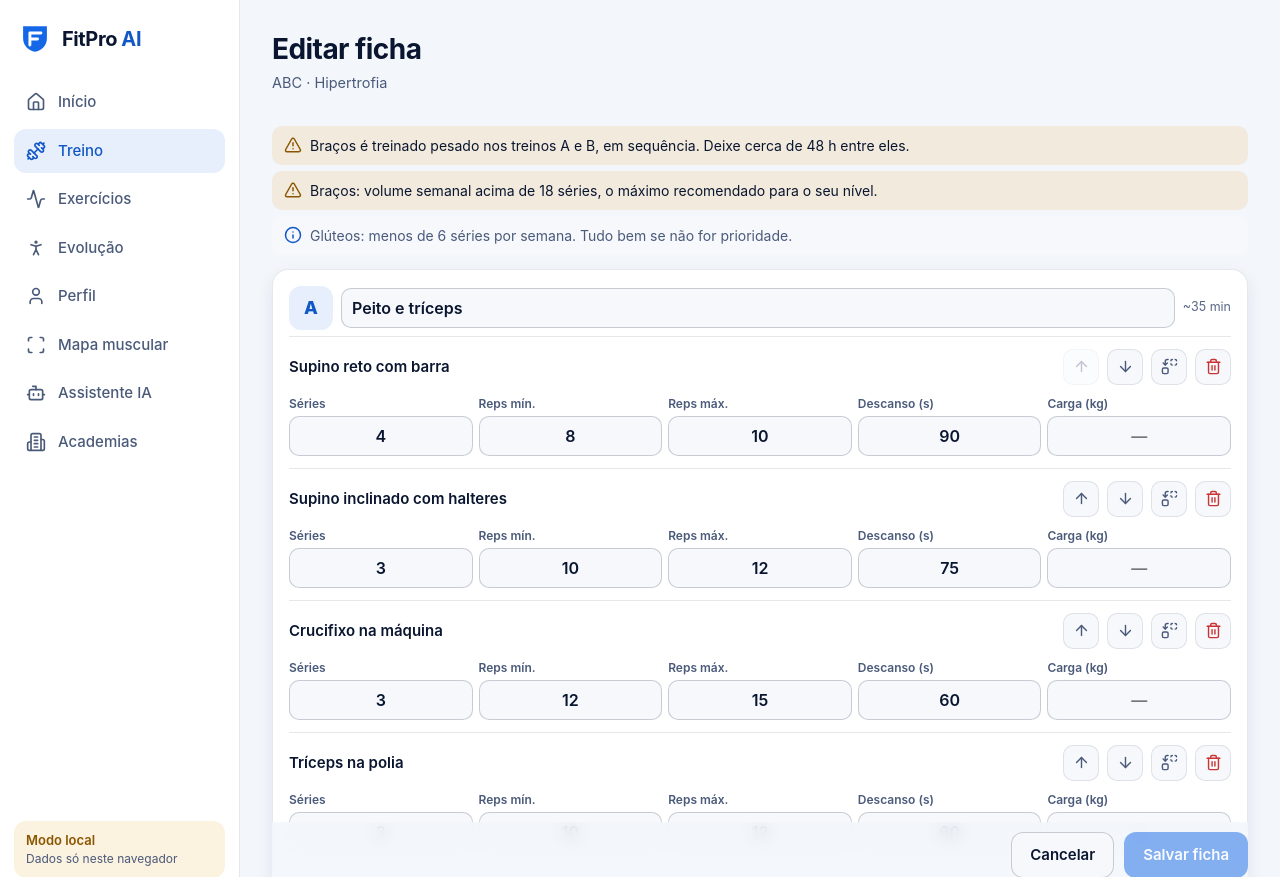
Test: editar ficha (modo local) › remover todos os exercícios de um treino gera erro na conferência
Click the button named "Remover ": coordinates (1213, 367) [1195,349,1231,385]
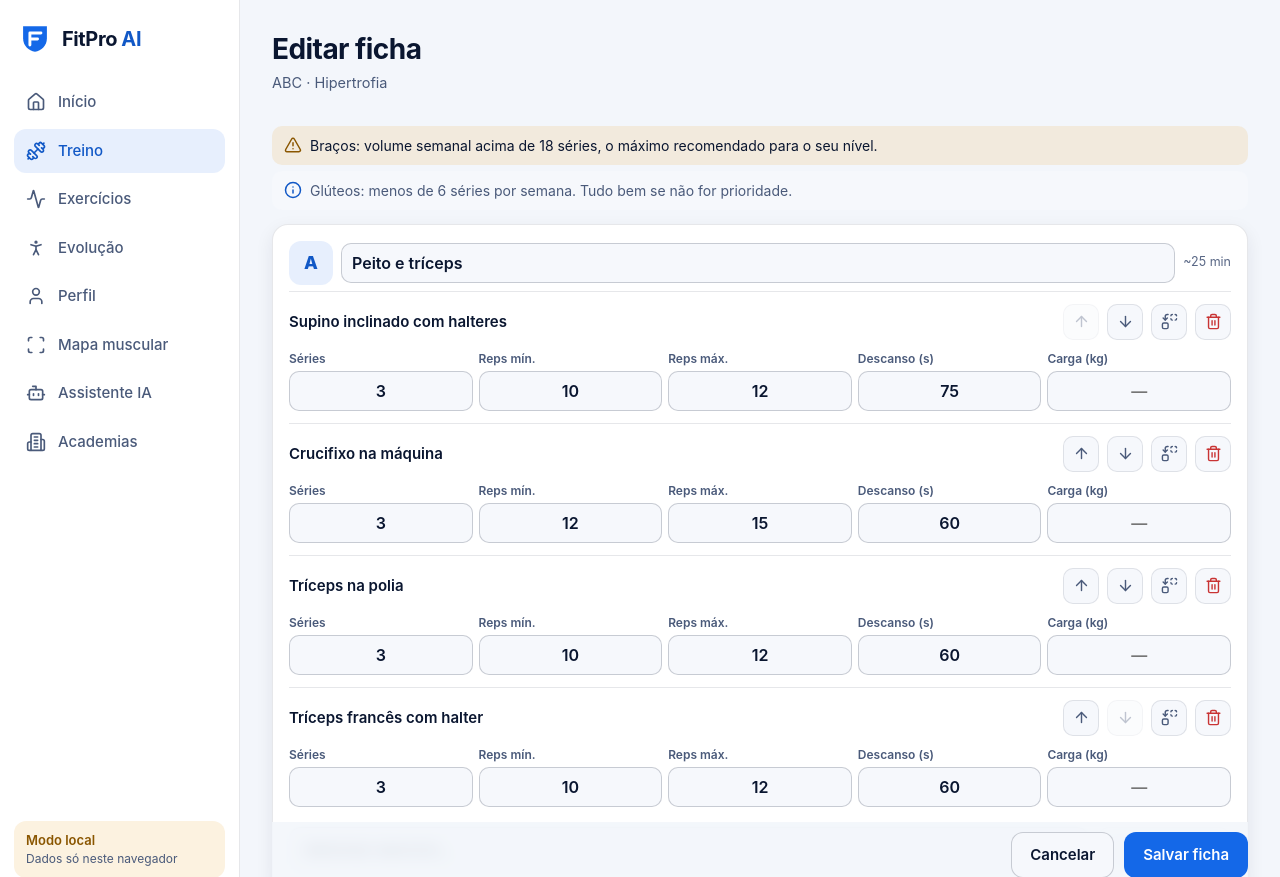
Click the button named "Remover ": coordinates (1213, 322) [1195,304,1231,340]
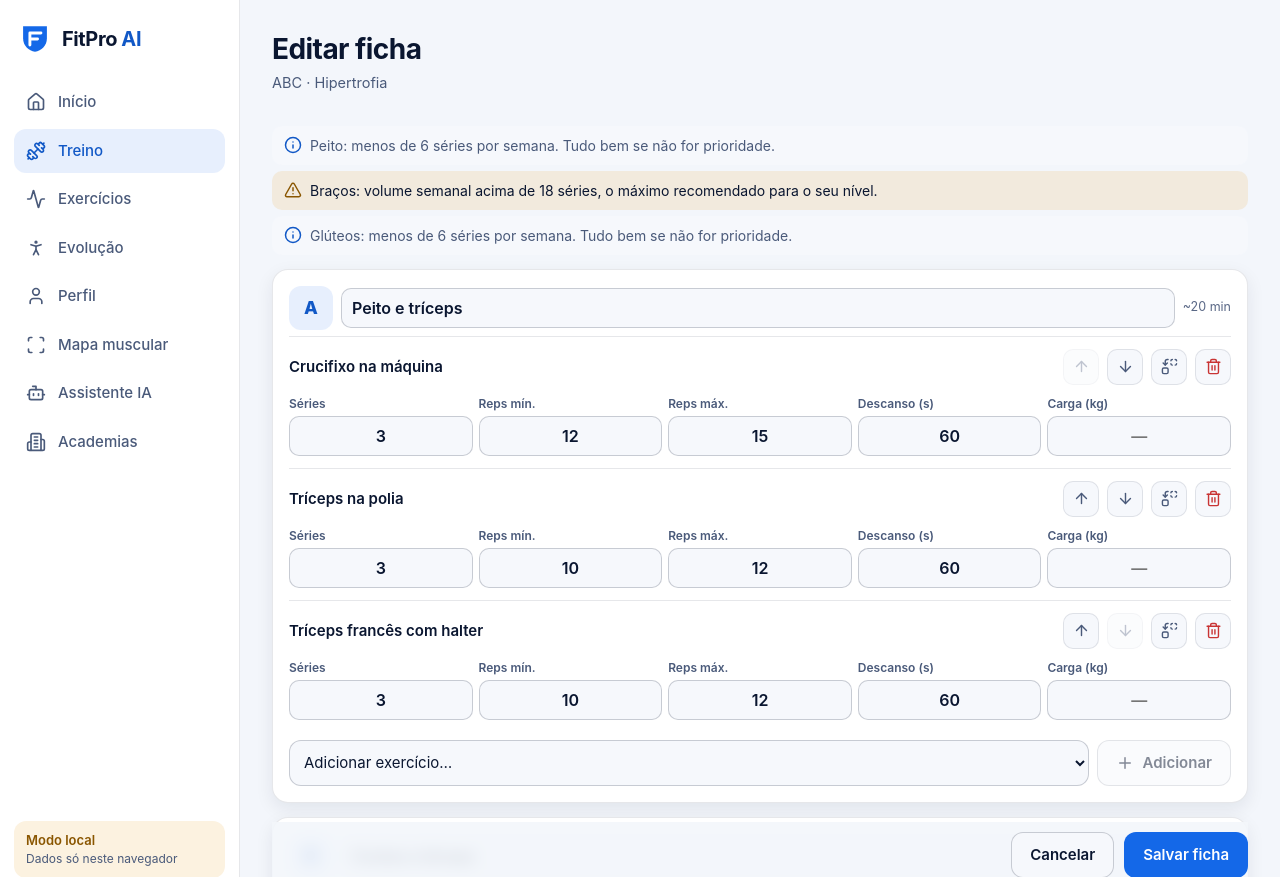
Click the button named "Remover ": coordinates (1213, 367) [1195,349,1231,385]
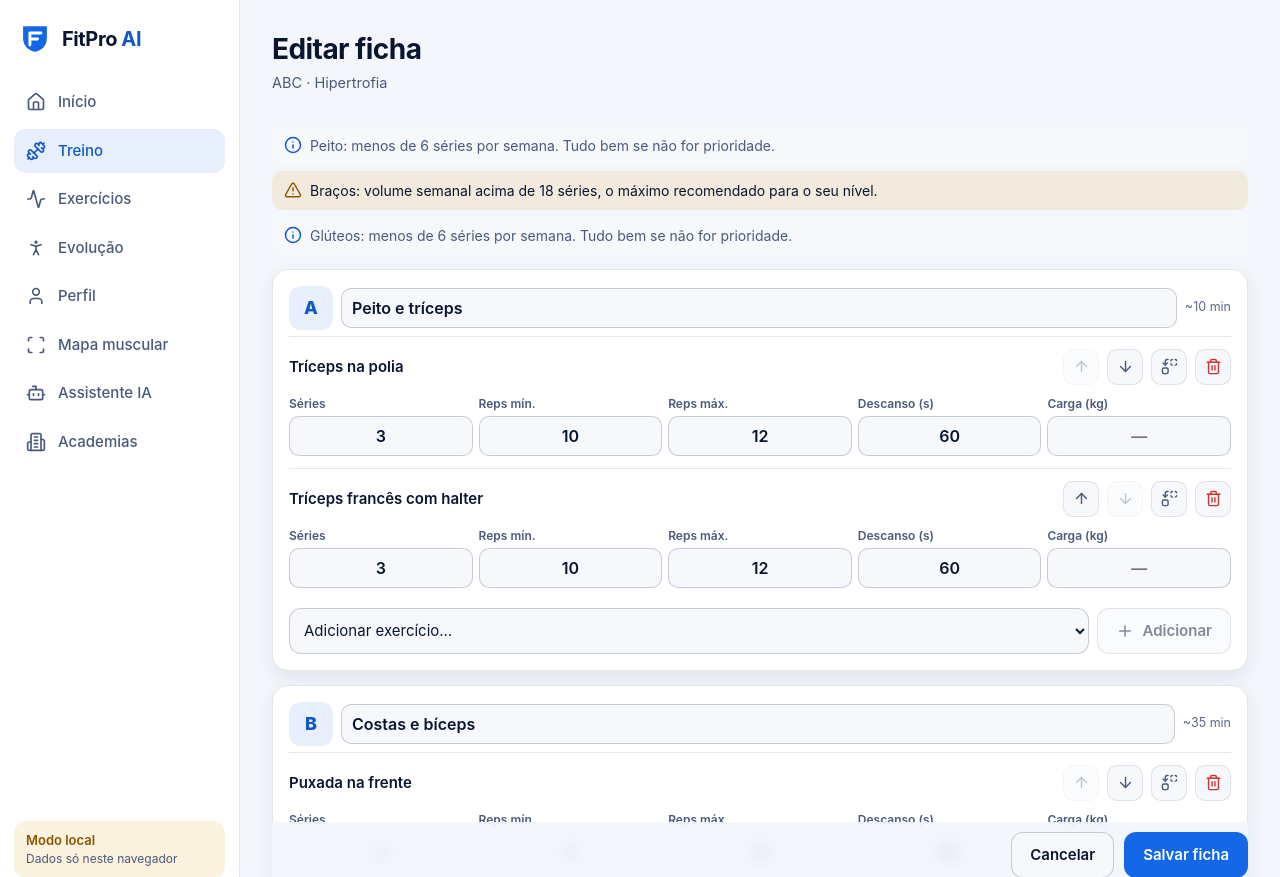
Click the button named "Remover ": coordinates (1213, 367) [1195,349,1231,385]
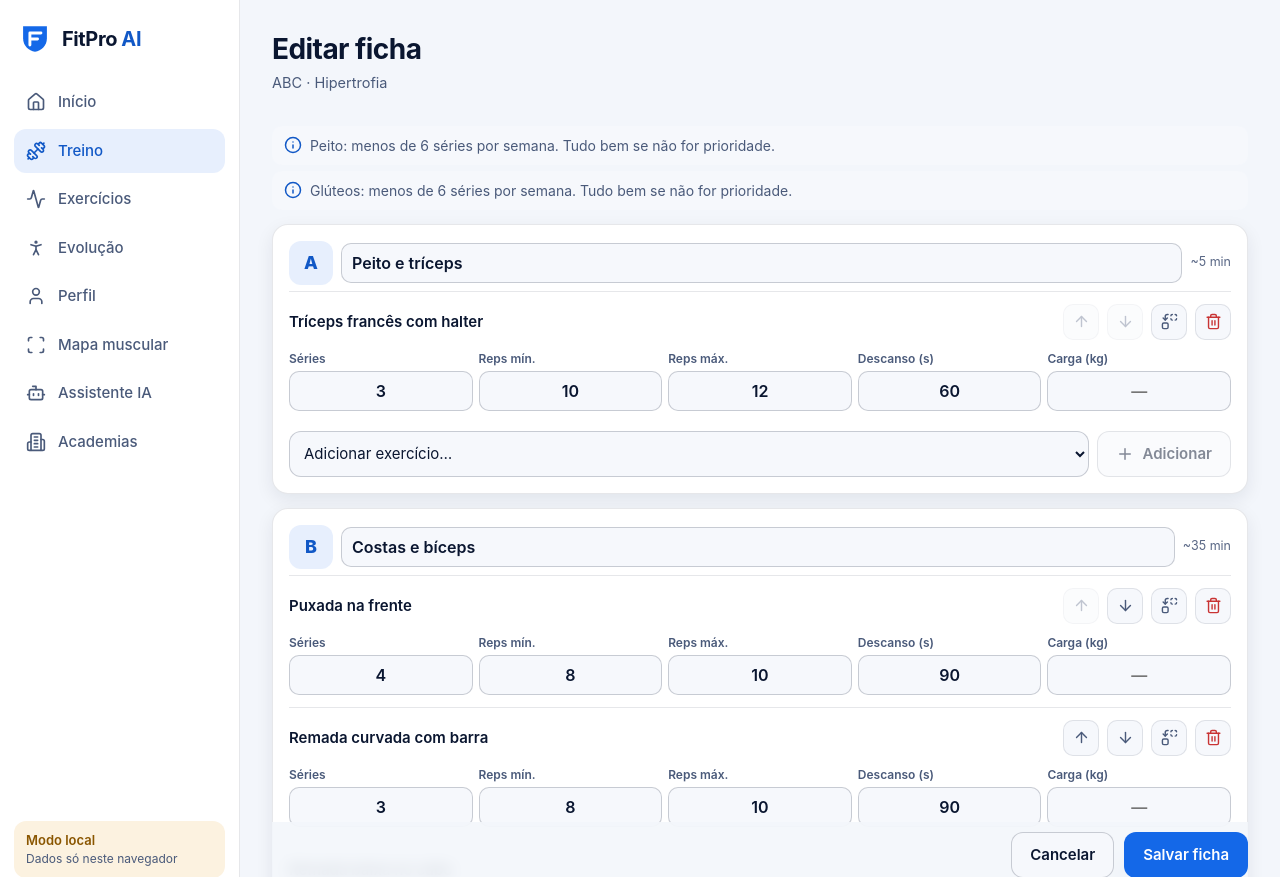
Click the button named "Remover ": coordinates (1213, 322) [1195,304,1231,340]
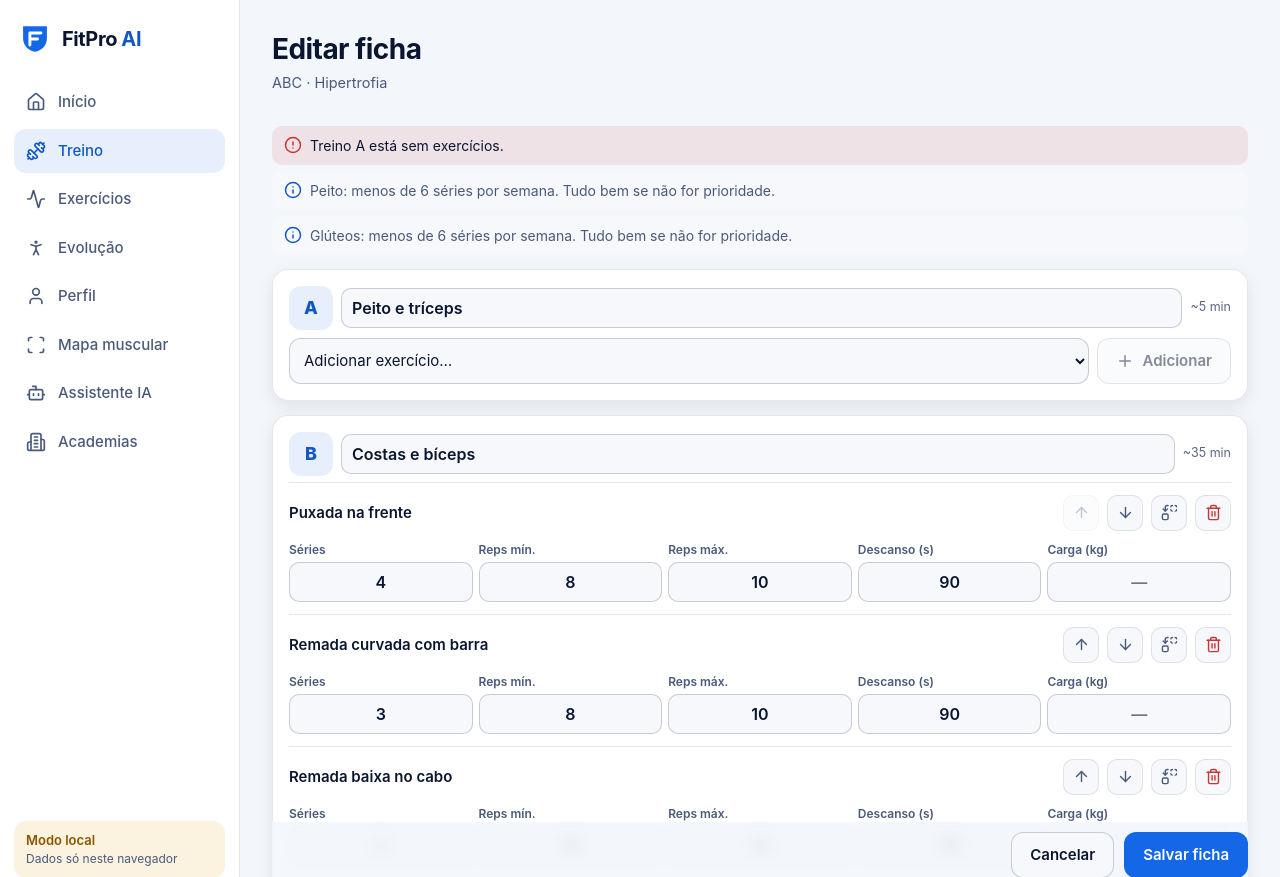
Result: the text "Treino A está sem exercícios." is shown at [310,135,504,156]
